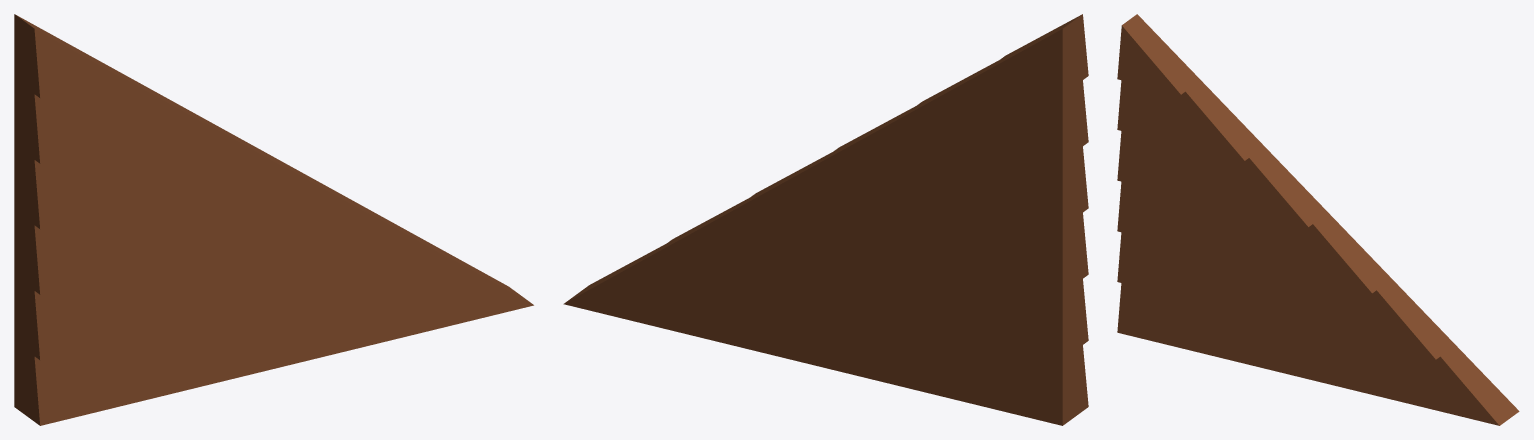
File: cabinSide.dae
The picture shows the model from 3 angles, left to right: view 1: azimuth 30°, elevation 25°; view 2: azimuth 150°, elevation 25°; view 3: azimuth 330°, elevation 25°; orthographic projection. The views are drawn at different scales.
Parts seen in each view (by area): view 1: cabinSide; view 2: cabinSide; view 3: cabinSide.
Part boxes in pixels (bbox=[...]): cabinSide: bbox=[14, 14, 533, 425]; cabinSide: bbox=[563, 14, 1088, 425]; cabinSide: bbox=[1117, 14, 1519, 425].
Bounding box in the file's own units: 1 × 0.76 × 0.0902.
